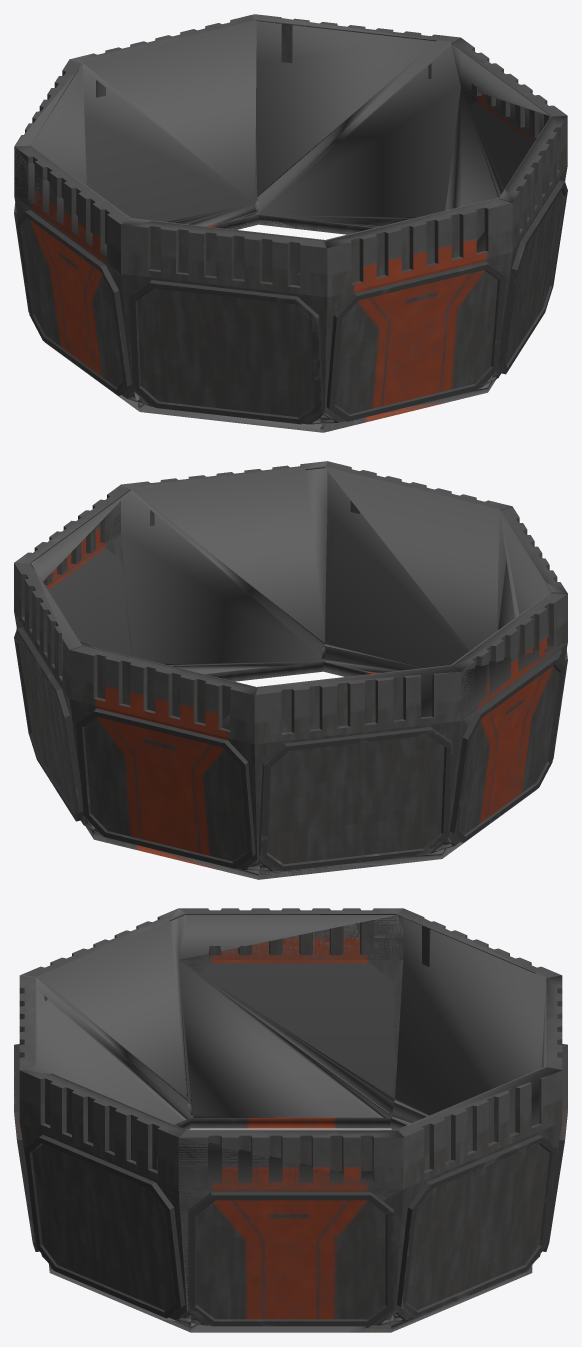
The model's file is 2_Reactor Housing.fbx.
3 views of the same model, one above another, from view 1: azimuth 30°, elevation 25°; view 2: azimuth 150°, elevation 25°; view 3: azimuth 270°, elevation 25° (orthographic). The views are drawn at different scales.
Visible parts, largest first — view 1: 2_Reactor Housing_seg05, 2_Reactor Housing_seg01, 2_Reactor Housing_seg02, 2_Reactor Housing_seg06, 2_Reactor Housing_seg08, 2_Reactor Housing_seg04, 2_Reactor Housing_seg03, 2_Reactor Housing_seg07; view 2: 2_Reactor Housing_seg03, 2_Reactor Housing_seg07, 2_Reactor Housing_seg06, 2_Reactor Housing_seg02, 2_Reactor Housing_seg08, 2_Reactor Housing_seg05, 2_Reactor Housing_seg04, 2_Reactor Housing_seg01; view 3: 2_Reactor Housing_seg08, 2_Reactor Housing_seg04, 2_Reactor Housing_seg03, 2_Reactor Housing_seg05, 2_Reactor Housing_seg01, 2_Reactor Housing_seg07, 2_Reactor Housing_seg06, 2_Reactor Housing_seg02.
Boxes of the visible parts, x1,y1,x2,y2 form: 2_Reactor Housing_seg05: [254, 14, 460, 234]; 2_Reactor Housing_seg01: [121, 218, 327, 432]; 2_Reactor Housing_seg02: [320, 197, 512, 432]; 2_Reactor Housing_seg06: [70, 14, 258, 229]; 2_Reactor Housing_seg08: [14, 145, 139, 411]; 2_Reactor Housing_seg04: [445, 37, 566, 210]; 2_Reactor Housing_seg03: [487, 115, 567, 391]; 2_Reactor Housing_seg07: [14, 59, 86, 312]; 2_Reactor Housing_seg03: [121, 461, 327, 681]; 2_Reactor Housing_seg07: [254, 665, 460, 879]; 2_Reactor Housing_seg06: [69, 644, 259, 879]; 2_Reactor Housing_seg02: [323, 461, 511, 676]; 2_Reactor Housing_seg08: [442, 592, 567, 858]; 2_Reactor Housing_seg05: [14, 562, 94, 839]; 2_Reactor Housing_seg04: [14, 484, 132, 656]; 2_Reactor Housing_seg01: [498, 506, 567, 758]; 2_Reactor Housing_seg08: [178, 908, 403, 1128]; 2_Reactor Housing_seg04: [178, 1129, 403, 1332]; 2_Reactor Housing_seg03: [19, 1066, 191, 1332]; 2_Reactor Housing_seg05: [391, 1066, 562, 1332]; 2_Reactor Housing_seg01: [20, 908, 192, 1129]; 2_Reactor Housing_seg07: [391, 908, 561, 1129]; 2_Reactor Housing_seg06: [535, 975, 567, 1260]; 2_Reactor Housing_seg02: [14, 975, 49, 1270].
Bounding box in the file's own units: 28.76 × 28.76 × 11.98.
